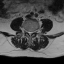CCS_normal: (29, 29, 31, 38)
LFS_stenosis: (32, 28, 35, 34)
LLS_stenosis: (31, 29, 32, 36)
RFS_normal: (25, 27, 27, 34)
RLS_normal: (27, 28, 29, 35)
